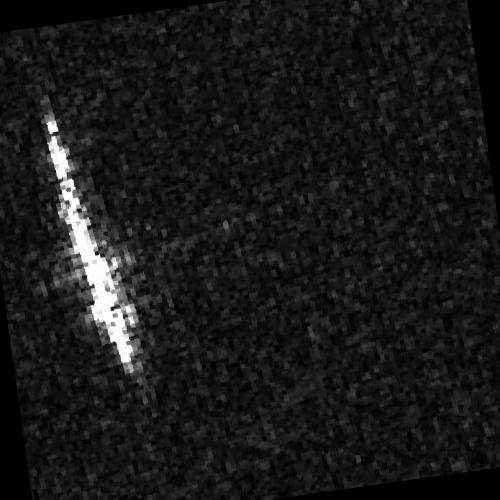ship: (41, 113, 135, 374)
